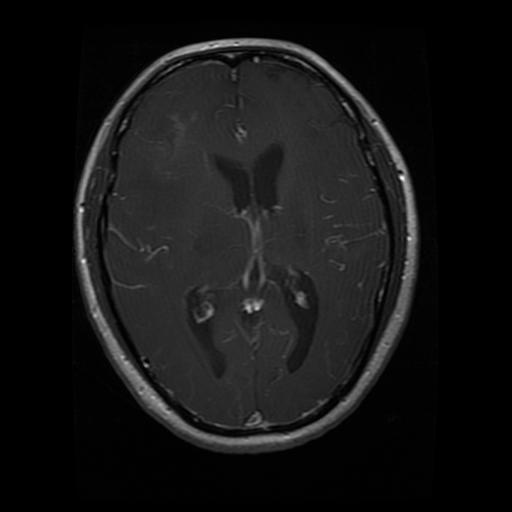Gliomia_tumour: (137, 102, 209, 185)
